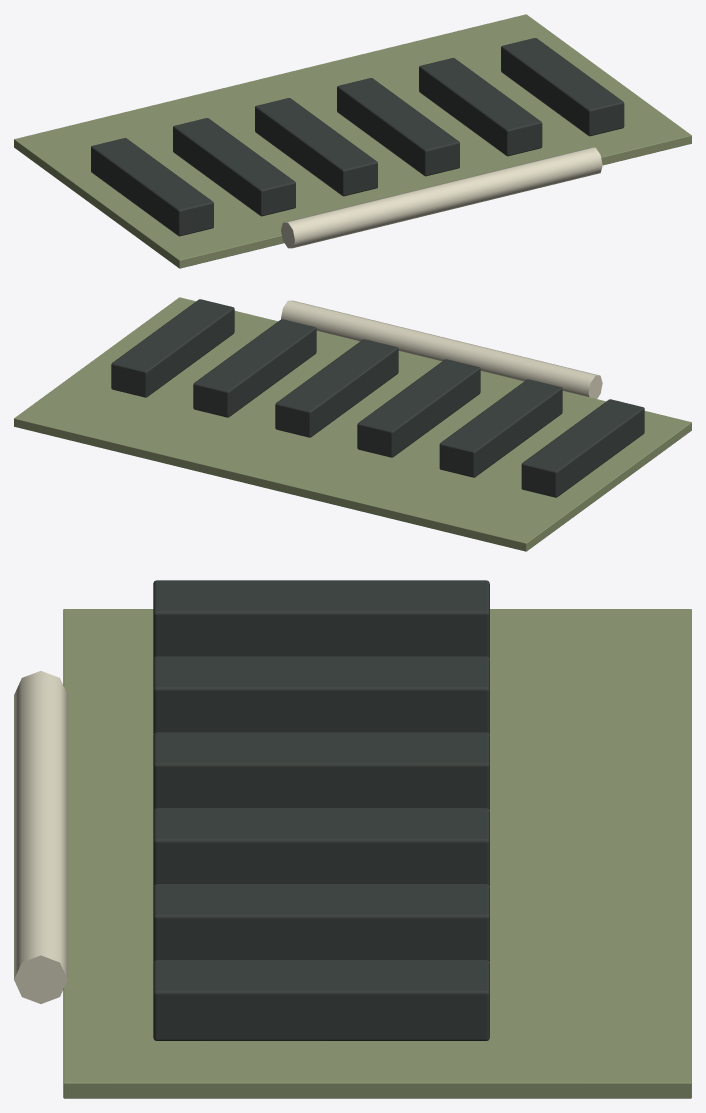
Rendered from backpacks-and-expedition-storage-tool-roll-880ddaa8__21081.glb.
3 views of the same model, one above another, from view 1: azimuth 30°, elevation 25°; view 2: azimuth 150°, elevation 25°; view 3: azimuth 270°, elevation 25° (orthographic). The views are drawn at different scales.
Visible parts, largest first — view 1: tool-roll; view 2: tool-roll; view 3: tool-roll.
Boxes of the visible parts, box(x1,y1,x2,y2) form: tool-roll: box(14, 14, 691, 268); tool-roll: box(14, 297, 691, 551); tool-roll: box(14, 580, 691, 1098).
Bounding box in the file's own units: 0.5 × 0.033 × 0.302.
